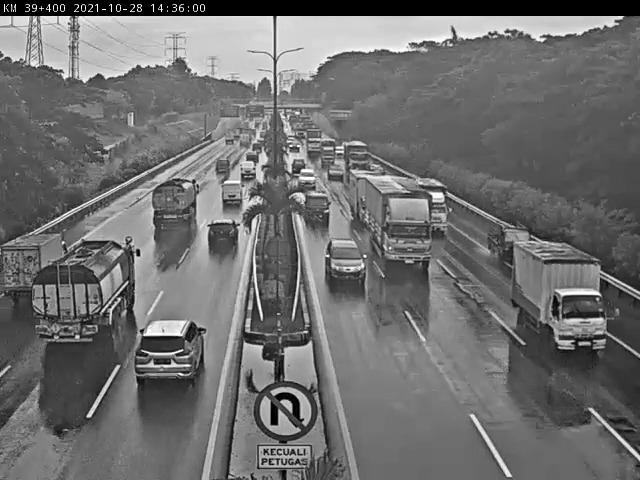big truck: (45, 251, 118, 351), (362, 175, 432, 268), (156, 178, 186, 243), (222, 185, 243, 214)
car: (132, 313, 201, 385), (488, 219, 521, 263), (328, 231, 356, 279), (206, 230, 244, 264), (308, 187, 326, 220), (294, 166, 318, 184), (243, 164, 252, 178)
small truck: (511, 241, 604, 344), (3, 238, 41, 309), (414, 169, 450, 233)
